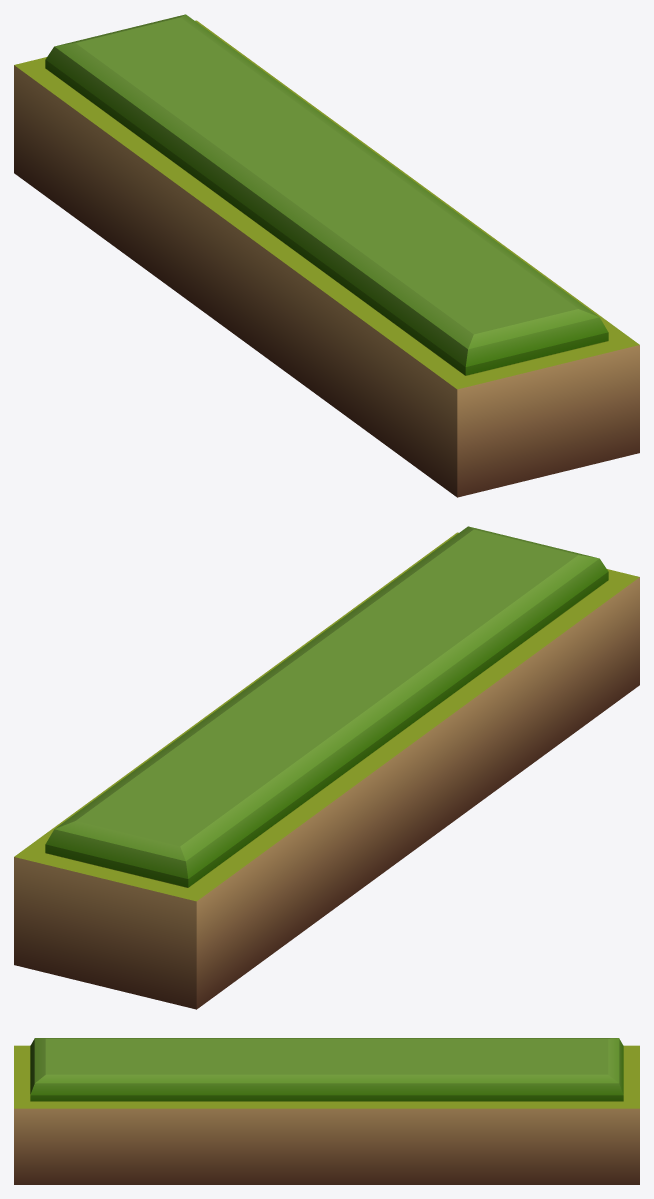
The model's file is Straight_Grass.fbx.
3 views of the same model, one above another, from view 1: azimuth 30°, elevation 25°; view 2: azimuth 150°, elevation 25°; view 3: azimuth 270°, elevation 25° (orthographic). The views are drawn at different scales.
Visible parts, largest first — view 1: Straight_Grass; view 2: Straight_Grass; view 3: Straight_Grass.
Boxes of the visible parts, bbox=[...] form: Straight_Grass: bbox=[14, 14, 639, 497]; Straight_Grass: bbox=[14, 526, 639, 1009]; Straight_Grass: bbox=[14, 1038, 639, 1184].
Bounding box in the file's own units: 80.74 × 57.89 × 339.
